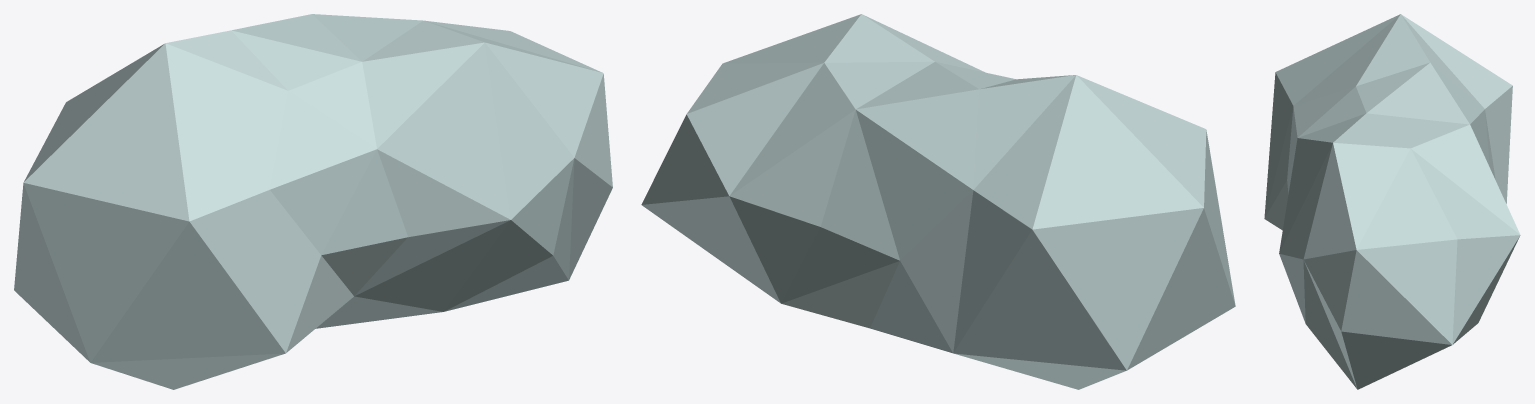
The model's file is Cloud.glb.
3 renders of one model, left to right at view 1: azimuth 30°, elevation 25°; view 2: azimuth 150°, elevation 25°; view 3: azimuth 270°, elevation 25°, orthographic. The views are drawn at different scales.
Visible parts, largest first — view 1: Icosphere.001; view 2: Icosphere.001; view 3: Icosphere.001.
Boxes of the visible parts, bbox=[...] form: Icosphere.001: bbox=[14, 14, 612, 389]; Icosphere.001: bbox=[641, 14, 1235, 389]; Icosphere.001: bbox=[1264, 14, 1520, 389].
Bounding box in the file's own units: 2.57 × 1.47 × 1.3.
